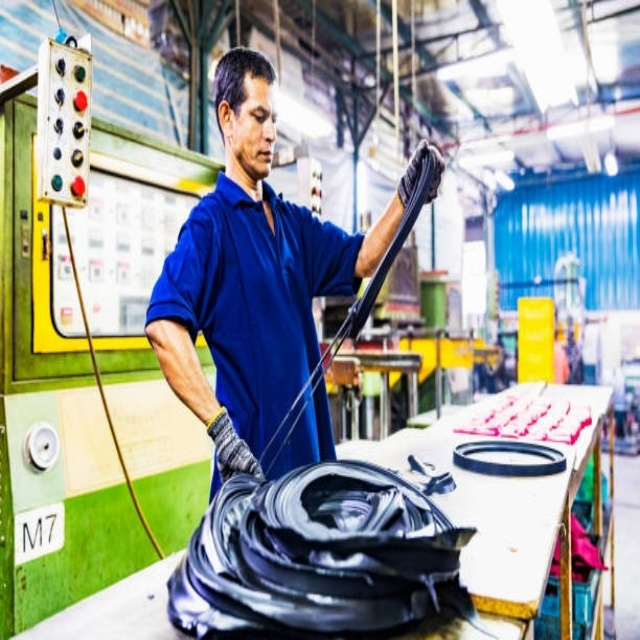Guantes: (205, 405, 266, 486), (398, 141, 444, 212)
Sin_gafas: (247, 99, 276, 130)
Sin_mascara: (253, 143, 274, 169)
